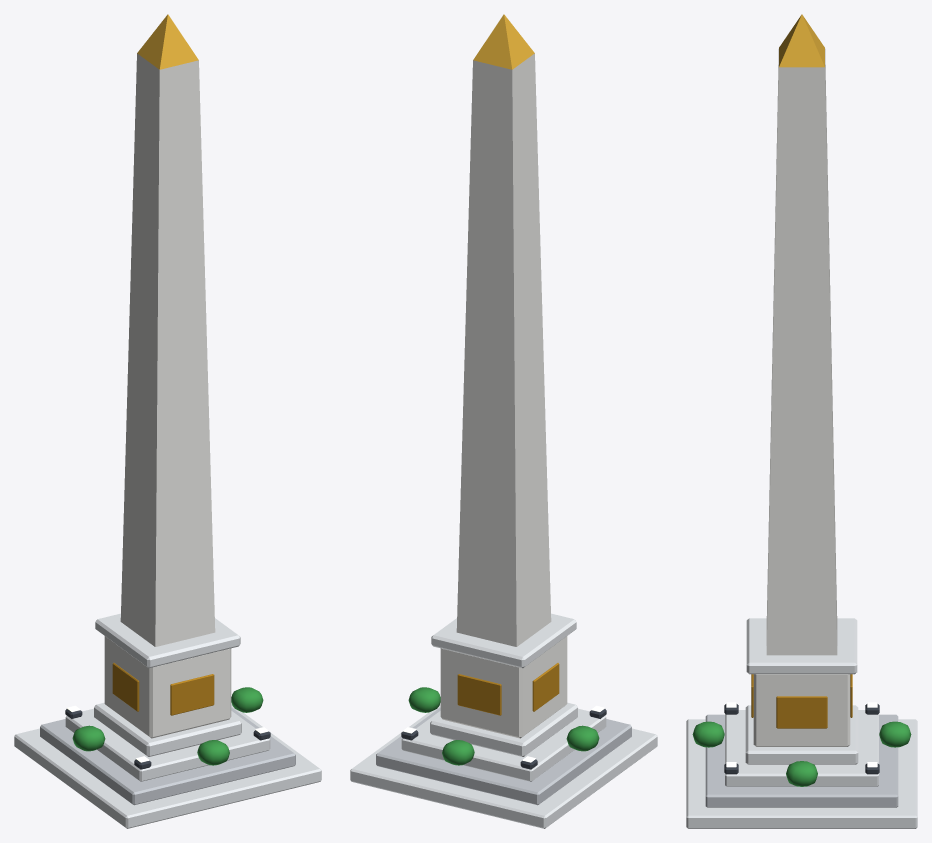
File: obelisco.glb
3 views of the same model, side by side, from view 1: azimuth 30°, elevation 25°; view 2: azimuth 150°, elevation 25°; view 3: azimuth 270°, elevation 25° (orthographic). The views are drawn at different scales.
Visible parts, largest first — view 1: obelisco; view 2: obelisco; view 3: obelisco.
Part boxes in pixels (box(x1,y1,x2,y2)): obelisco: box(14, 14, 321, 828); obelisco: box(350, 14, 657, 828); obelisco: box(686, 14, 917, 828).
Bounding box in the file's own units: 3.6 × 13.16 × 3.6.
2 materials, 1 textured.
